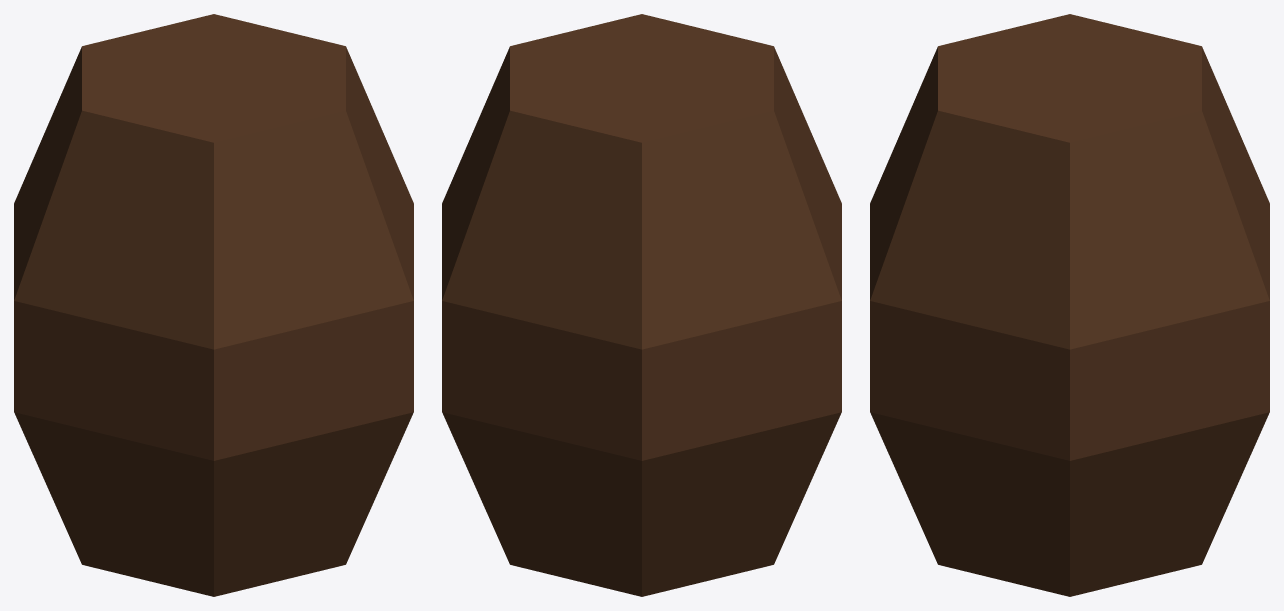
File: BARREL.fbx
3 renders of one model, left to right at view 1: azimuth 30°, elevation 25°; view 2: azimuth 150°, elevation 25°; view 3: azimuth 270°, elevation 25°, orthographic.
Visible parts, largest first — view 1: BARREL; view 2: BARREL; view 3: BARREL.
Part boxes in pixels (bbox=[...]): BARREL: bbox=[14, 14, 413, 596]; BARREL: bbox=[442, 14, 841, 596]; BARREL: bbox=[870, 14, 1269, 596].
Size of the model in its own units: 81.14 by 88.09 by 70.27.
Materials: 1 (1 with a texture image).
